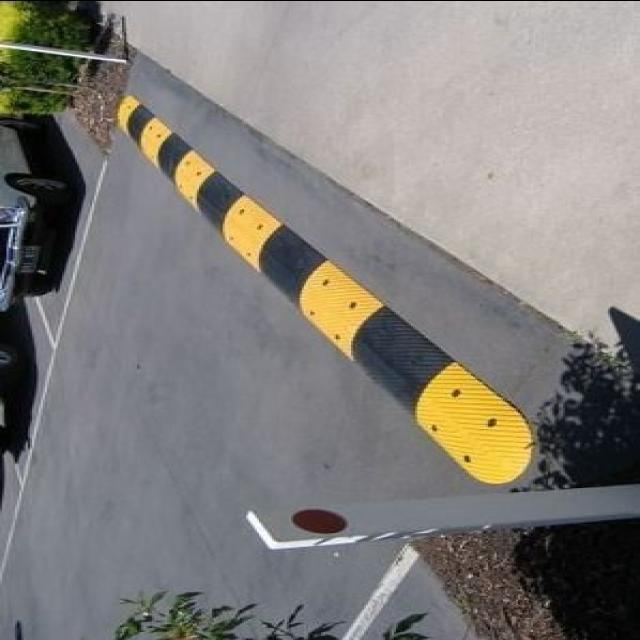speedbreaker: (112, 87, 546, 490)
